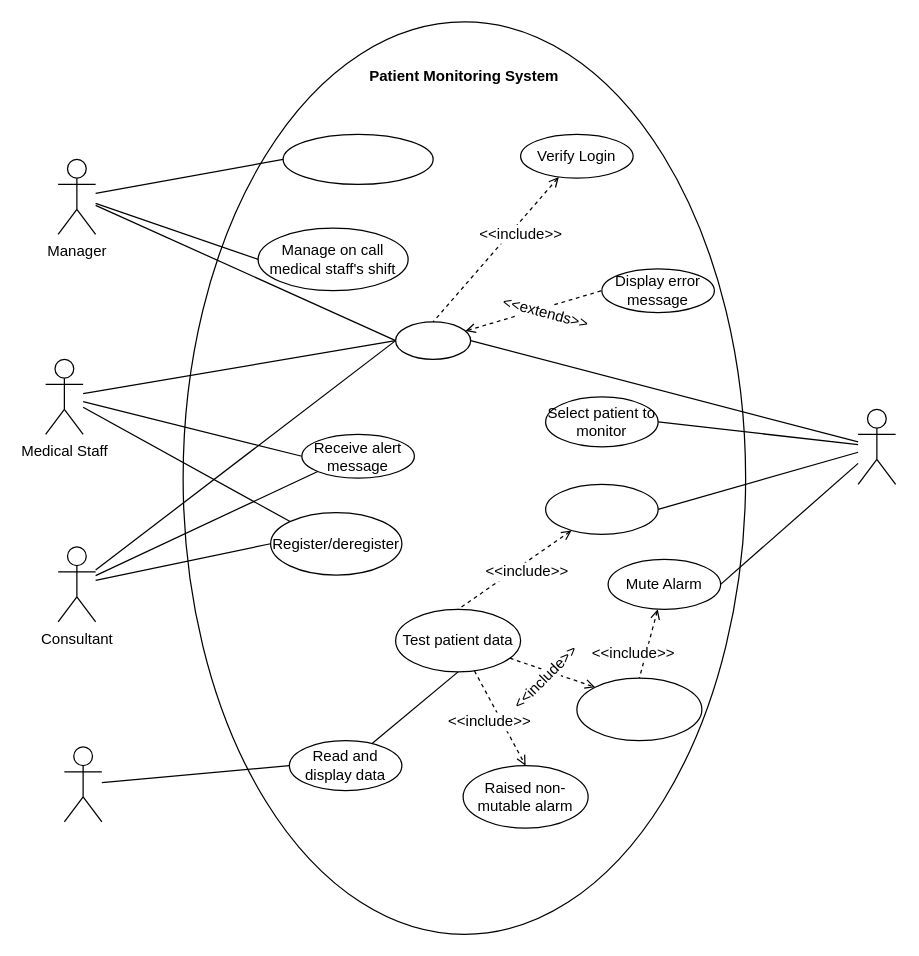
This 919x956 diagram has some shape labels left out. The shapes that lost their labels are listed below. From the top down, each one's centre as x and y in pixels, then its label:
At [357,158]: "Analyse response time for alarm".
At [432,340]: "Login".
At [876,446]: "Nurse".
At [601,508]: "Set alarm limits".
At [639,709]: "Raised mutable alarm".
At [82,784]: "Patient".
